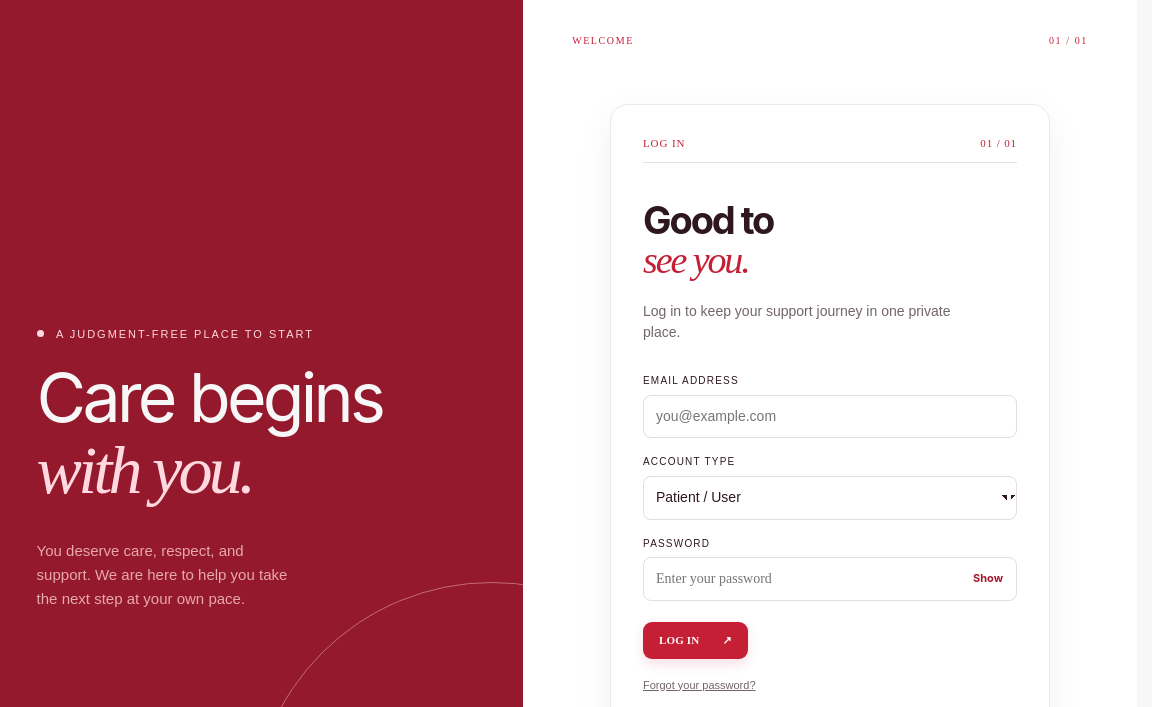
Test: blocks un-registered accounts from logging in with an error message
Type "unregistered@example.com" into the field labelled "Email Address" at (830, 417), box [643,395,1017,438]
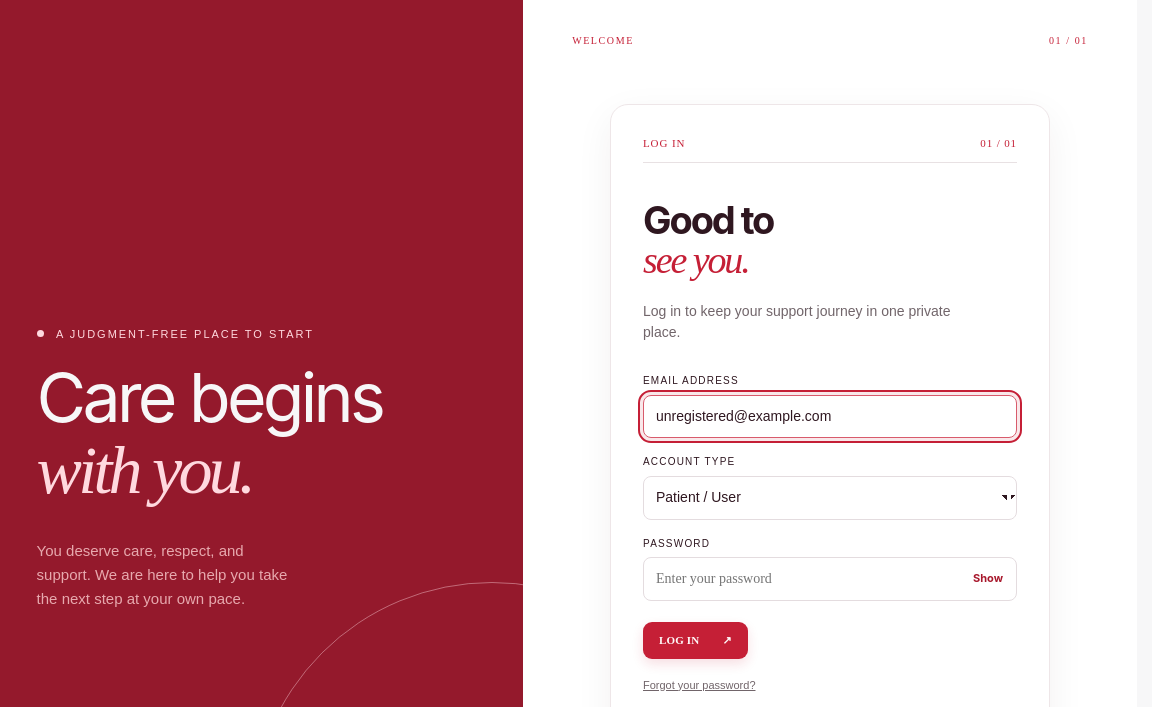
Type "password123" into the password field labelled "Password" at (830, 579), box [643,557,1017,601]
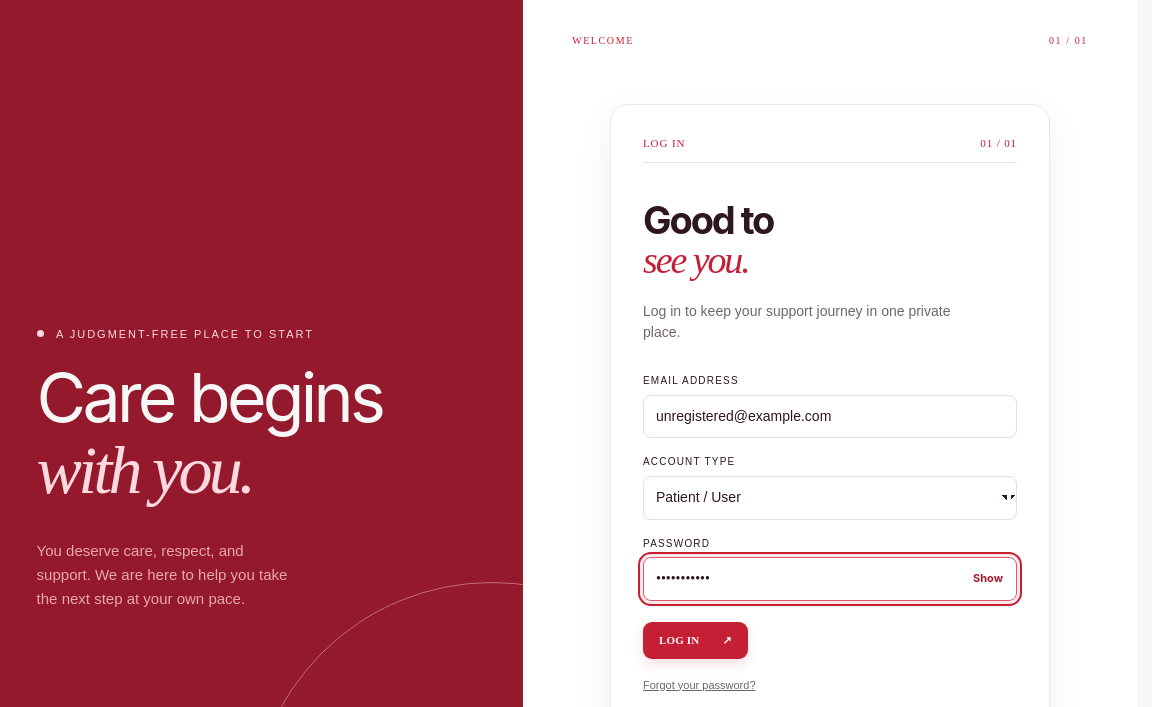
Click the button "Log in ↗" at (695, 640), box [643,622,748,659]
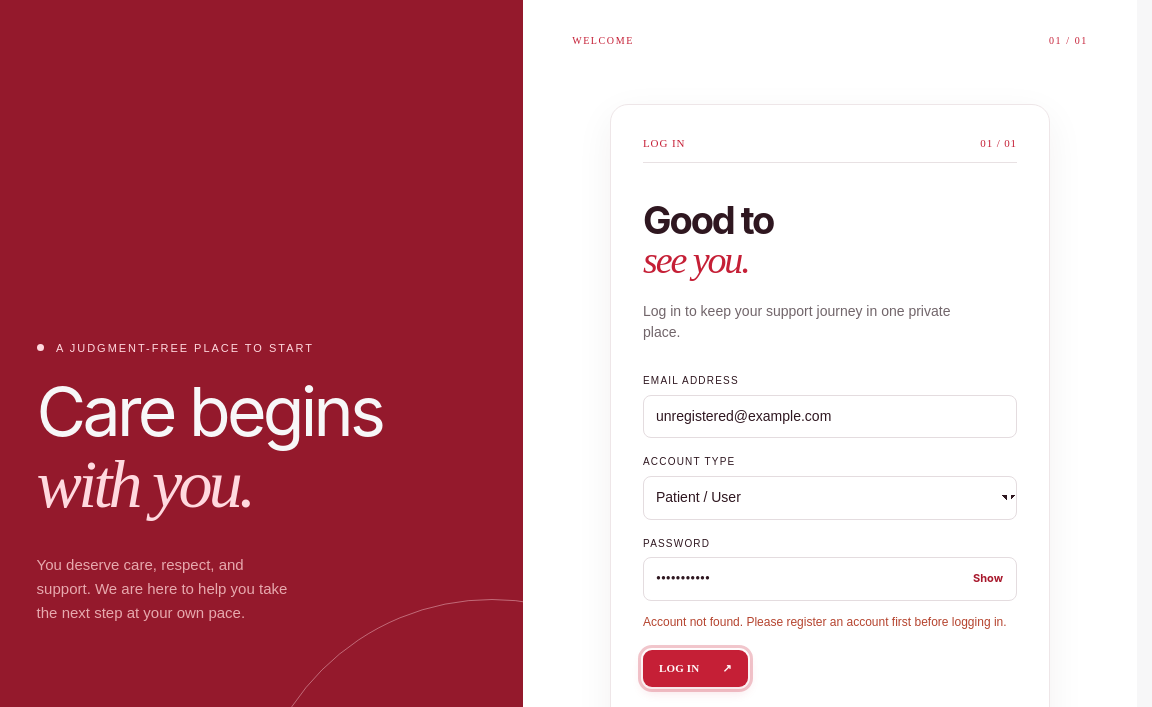
Check: the message shows "Account not found", box [643,615,1007,629]
